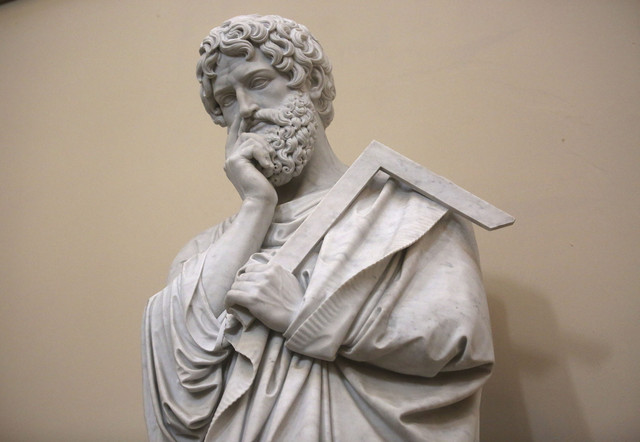person-like: (138, 10, 522, 442)
